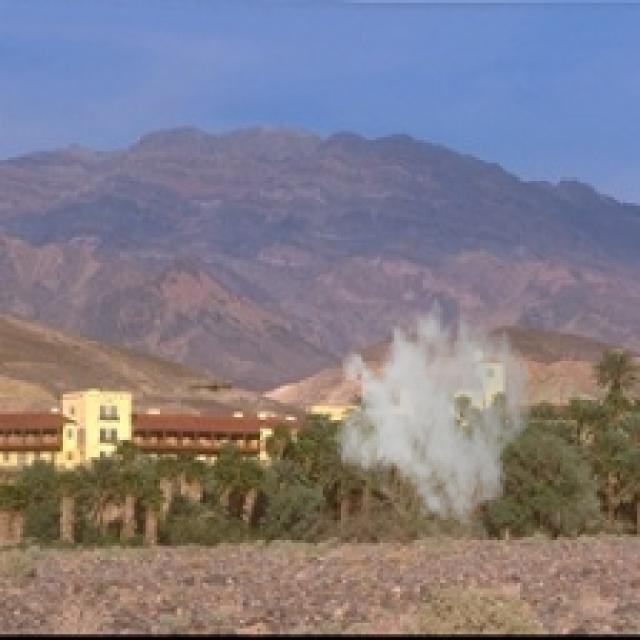Smoke: (334, 282, 534, 528)
